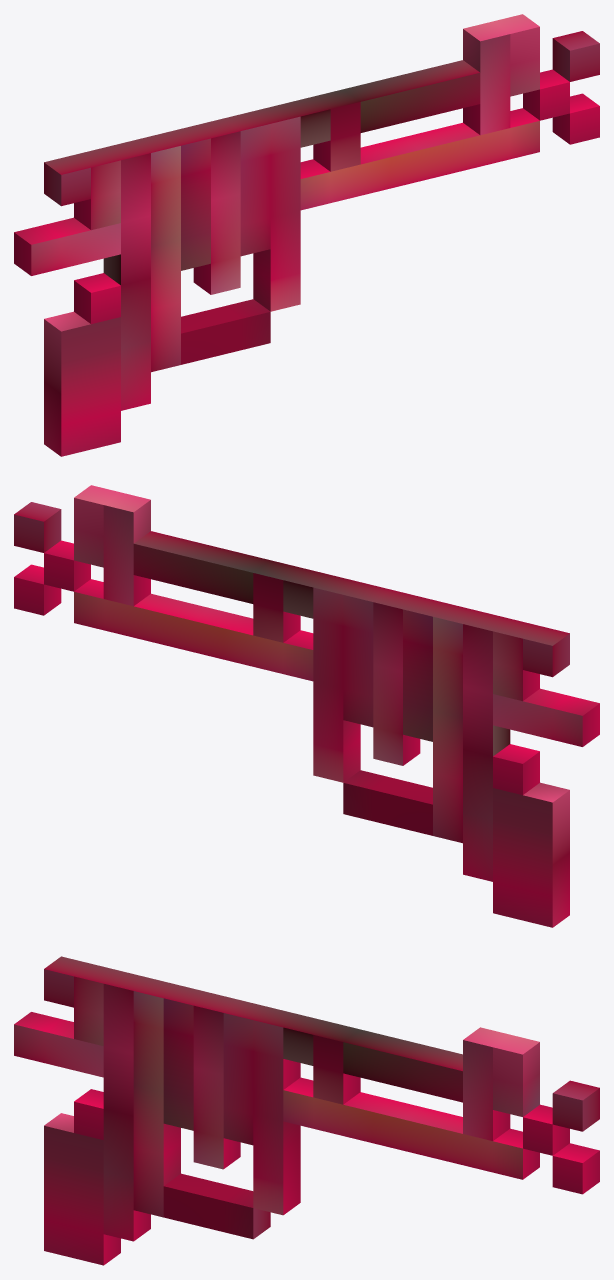
Rendered from BillboardModule_Line_E_00.fbx.
3 views of the same model, one above another, from view 1: azimuth 30°, elevation 25°; view 2: azimuth 150°, elevation 25°; view 3: azimuth 330°, elevation 25° (orthographic).
Parts seen in each view (by area): view 1: BillboardModule_Line_E_00; view 2: BillboardModule_Line_E_00; view 3: BillboardModule_Line_E_00.
Boxes of the visible parts, x1,y1,x2,y2 form: BillboardModule_Line_E_00: [14, 14, 599, 456]; BillboardModule_Line_E_00: [14, 485, 599, 927]; BillboardModule_Line_E_00: [14, 956, 599, 1265].
Bounding box in the file's own units: 95 × 50 × 5.
